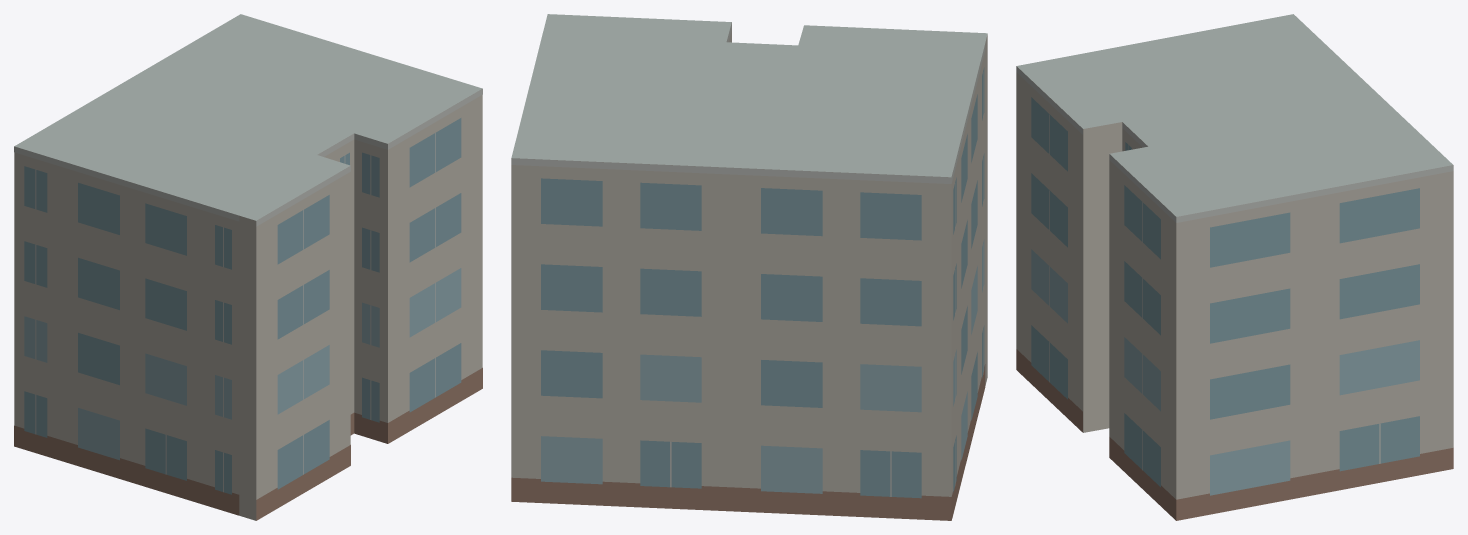
The model's file is survey-upis-32745562.glb.
3 renders of one model, left to right at view 1: azimuth 30°, elevation 25°; view 2: azimuth 150°, elevation 25°; view 3: azimuth 270°, elevation 25°, orthographic. The views are drawn at different scales.
Visible parts, largest first — view 1: survey-upis-32745562.tmp; view 2: survey-upis-32745562.tmp; view 3: survey-upis-32745562.tmp.
Part boxes in pixels (left/top/right/bottom): survey-upis-32745562.tmp: left=14, top=14, right=482, bottom=520; survey-upis-32745562.tmp: left=511, top=14, right=987, bottom=520; survey-upis-32745562.tmp: left=1016, top=14, right=1453, bottom=520.
Size of the model in its own units: 17.48 by 12.2 by 15.91.
